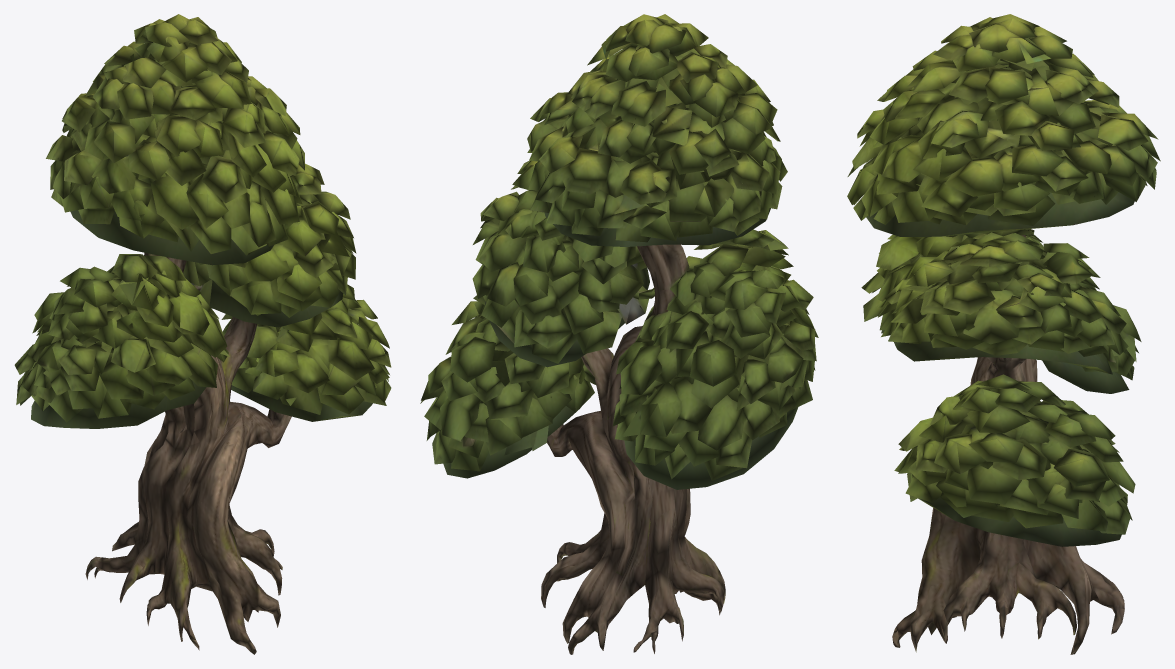
The model's file is tree.glb.
3 renders of one model, left to right at view 1: azimuth 30°, elevation 25°; view 2: azimuth 150°, elevation 25°; view 3: azimuth 270°, elevation 25°, orthographic. The views are drawn at different scales.
Parts seen in each view (by area): view 1: TREE; view 2: TREE; view 3: TREE.
Boxes of the visible parts, <box> form: TREE: <box>14,14,391,654</box>; TREE: <box>420,14,818,654</box>; TREE: <box>847,14,1160,654</box>.
Bounding box in the file's own units: 3.04 × 5.4 × 2.48.
1 material, 1 textured.
